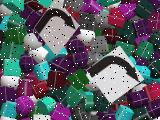Right: (86, 46, 144, 104), (34, 0, 79, 56)
